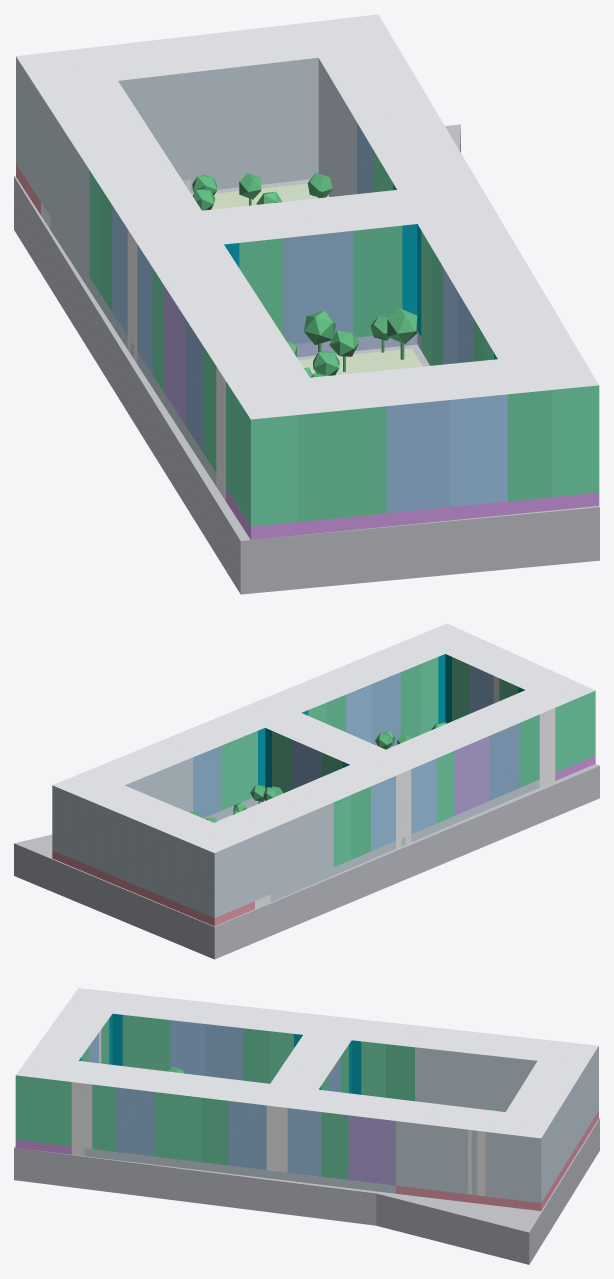
File: sunnyvale.glb
3 views of the same model, one above another, from view 1: azimuth 30°, elevation 25°; view 2: azimuth 150°, elevation 25°; view 3: azimuth 270°, elevation 25° (orthographic). The views are drawn at different scales.
Size of the model in its own units: 133 by 37.31 by 189.
